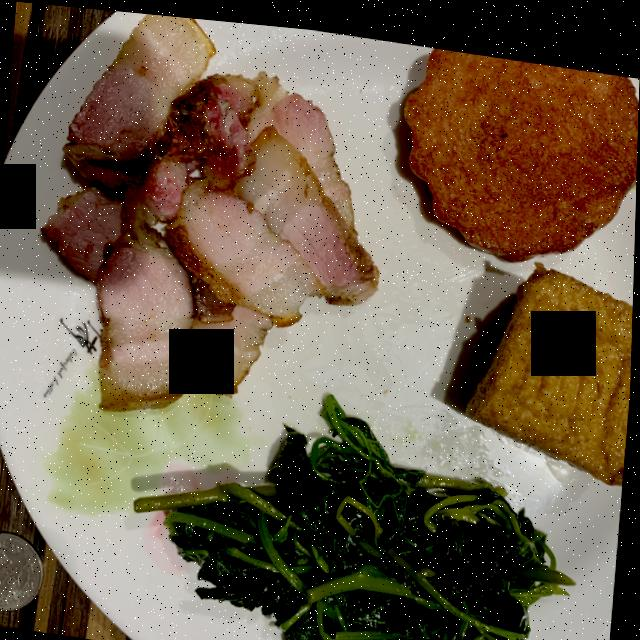Spam: (405, 39, 639, 251)
coin: (0, 531, 47, 610)
egg tofu: (469, 255, 634, 472)
grilled pork: (43, 11, 380, 408)
sweet potato leaves: (137, 391, 577, 640)
